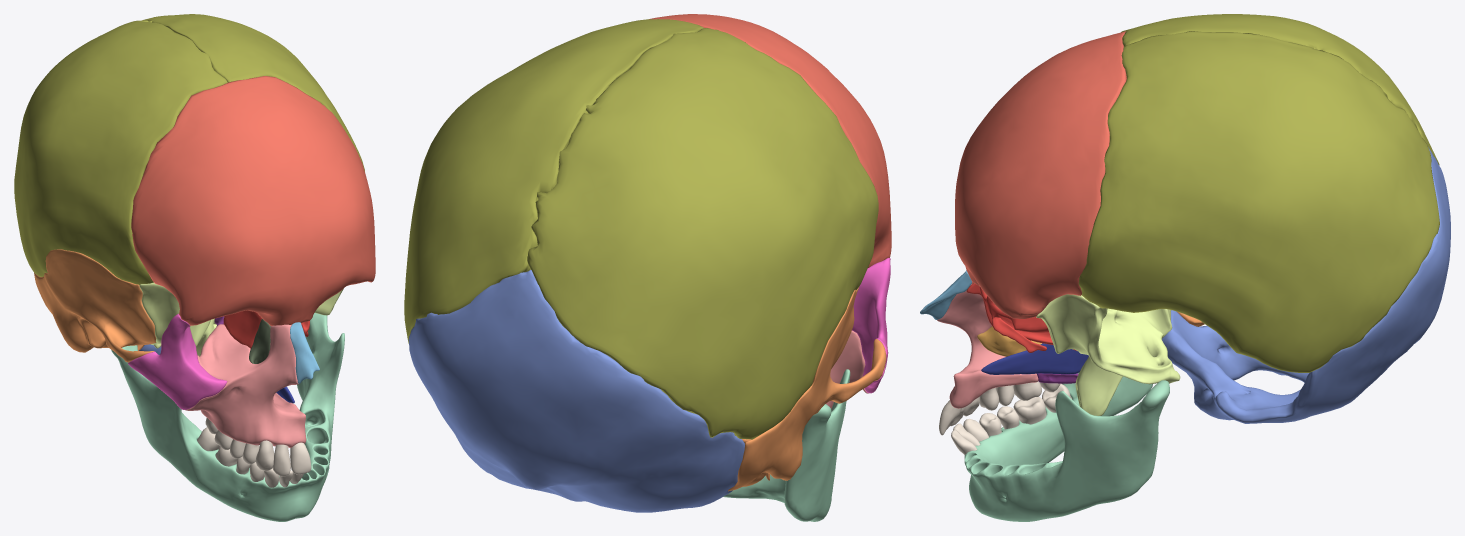
Rendered from overview-colored-skull.glb.
3 views of the same model, side by side, from view 1: azimuth 30°, elevation 25°; view 2: azimuth 150°, elevation 25°; view 3: azimuth 270°, elevation 25° (orthographic). The views are drawn at different scales.
Visible parts, largest first — view 1: Frontal bone, Parietal bone.r, Mandible bone, Maxilla bone.r, Temporal bone.r, Parietal bone.l, Zygomatic bone.r, Sphenoid bone, Ethmoid Bone, Nasal bone.r, Lacrimal bone.r, Upper medial incisor.r (+2 smaller); view 2: Parietal bone.r, Occipital bone, Parietal bone.l, Frontal bone, Temporal bone.r, Mandible bone, Zygomatic bone.r, Maxilla bone.r; view 3: Parietal bone.l, Frontal bone, Mandible bone, Occipital bone, Sphenoid bone, Parietal bone.r, Maxilla bone.r, Vomer, Ethmoid Bone, Nasal bone.r, Inferior nasal concha bone.r, Lower first molar tooth.r.
Part boxes in pixels (<box>): Frontal bone: <box>131,76,375,325</box>; Parietal bone.r: <box>14,20,227,284</box>; Mandible bone: <box>111,313,344,521</box>; Maxilla bone.r: <box>185,324,306,447</box>; Temporal bone.r: <box>34,249,156,362</box>; Parietal bone.l: <box>142,14,364,171</box>; Zygomatic bone.r: <box>128,313,227,409</box>; Sphenoid bone: <box>139,282,343,356</box>; Ethmoid Bone: <box>223,310,309,348</box>; Nasal bone.r: <box>290,322,319,383</box>; Lacrimal bone.r: <box>249,319,270,363</box>; Upper medial incisor.r: <box>290,442,311,474</box>; Parietal bone.r: <box>527,28,878,439</box>; Occipital bone: <box>408,270,744,512</box>; Parietal bone.l: <box>404,19,703,343</box>; Frontal bone: <box>649,14,891,267</box>; Temporal bone.r: <box>728,287,886,491</box>; Mandible bone: <box>723,369,850,521</box>; Zygomatic bone.r: <box>852,258,890,393</box>; Maxilla bone.r: <box>826,330,868,409</box>; Parietal bone.l: <box>1078,31,1439,372</box>; Frontal bone: <box>955,31,1126,318</box>; Mandible bone: <box>964,373,1169,521</box>; Occipital bone: <box>1162,147,1450,423</box>; Sphenoid bone: <box>1036,294,1180,415</box>; Parietal bone.r: <box>1121,14,1439,165</box>; Maxilla bone.r: <box>937,283,1038,408</box>; Vomer: <box>981,343,1088,374</box>; Ethmoid Bone: <box>966,283,1076,352</box>; Nasal bone.r: <box>920,270,971,319</box>; Inferior nasal concha bone.r: <box>977,326,1041,356</box>; Lower first molar tooth.r: <box>1013,396,1046,424</box>.
Size of the model in its own units: 0.1485 by 0.2013 by 0.2038.
